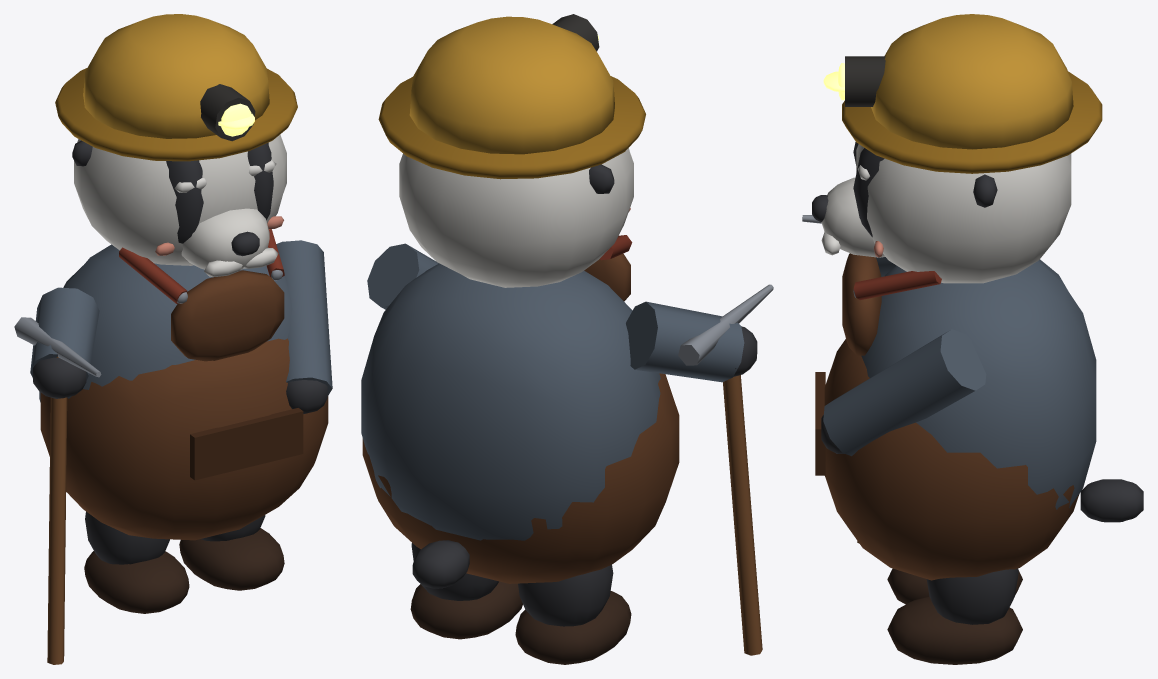
The model's file is old_flint.glb.
3 renders of one model, left to right at view 1: azimuth 30°, elevation 25°; view 2: azimuth 150°, elevation 25°; view 3: azimuth 270°, elevation 25°, orthographic. The views are drawn at different scales.
Parts seen in each view (by area): view 1: OldFlint_Body, OldFlint_Head, OldFlint_ArmR, OldFlint_ArmL; view 2: OldFlint_Body, OldFlint_Head, OldFlint_ArmR, OldFlint_ArmL, OldFlint_Tail; view 3: OldFlint_Body, OldFlint_Head, OldFlint_ArmL, OldFlint_Tail.
Boxes of the visible parts, x1,y1,x2,y2 form: OldFlint_Body: (39, 229, 328, 613); OldFlint_Head: (55, 14, 297, 276); OldFlint_ArmR: (14, 287, 101, 664); OldFlint_ArmL: (276, 240, 332, 413); OldFlint_Body: (361, 235, 679, 664); OldFlint_Head: (378, 14, 645, 287); OldFlint_ArmR: (626, 284, 773, 655); OldFlint_ArmL: (367, 243, 438, 309); OldFlint_Tail: (412, 540, 469, 588); OldFlint_Body: (815, 253, 1096, 664); OldFlint_Head: (812, 14, 1102, 283); OldFlint_ArmL: (821, 329, 986, 456); OldFlint_Tail: (1080, 479, 1143, 522).
Bounding box in the file's own units: 0.9278 × 1.56 × 0.8047.
